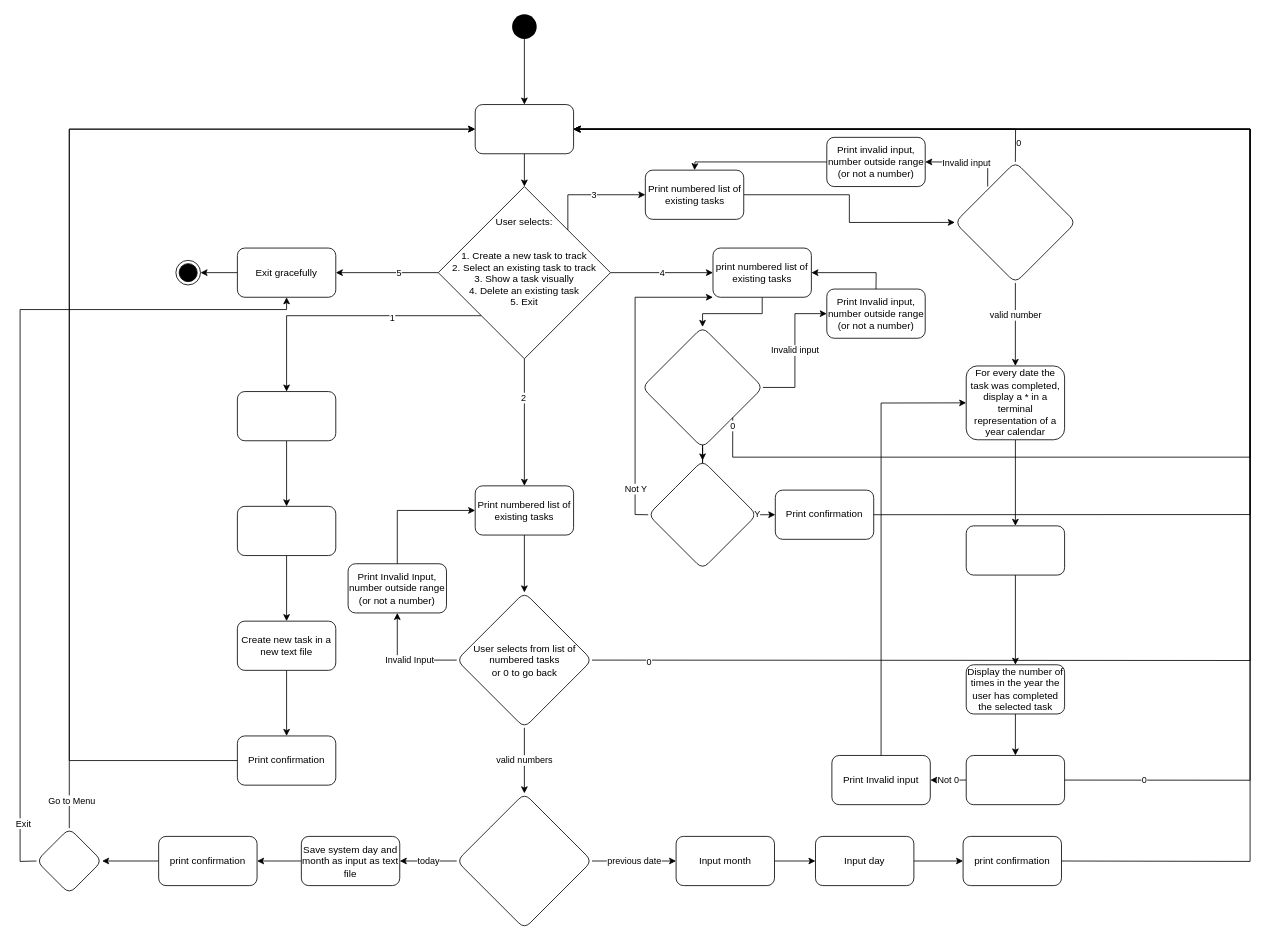
This 1271x943 diagram has some shape labels left out. Here are the shapes that lost their labels. From the top down, the centre of each, then its label:
At point 524,129: "Welcome to daily task tracker. What would you like to do today?".
At point 1015,222: "user selects task they want to visualise or 0 to go back".
At point 702,387: "user selects task they want to delete or 0 to go back".
At point 286,416: "Create new task from class".
At point 286,531: "Prompt user for task name".
At point 702,514: "Type Y to confirm deleting *task name*".
At point 1015,550: "Display the number of days in a row the user has completed the selected task".
At point 1015,780: "Press 0 to return to menu".
At point 69,860: "exit or go to menu".
At point 524,861: "User selects today or previous date".
